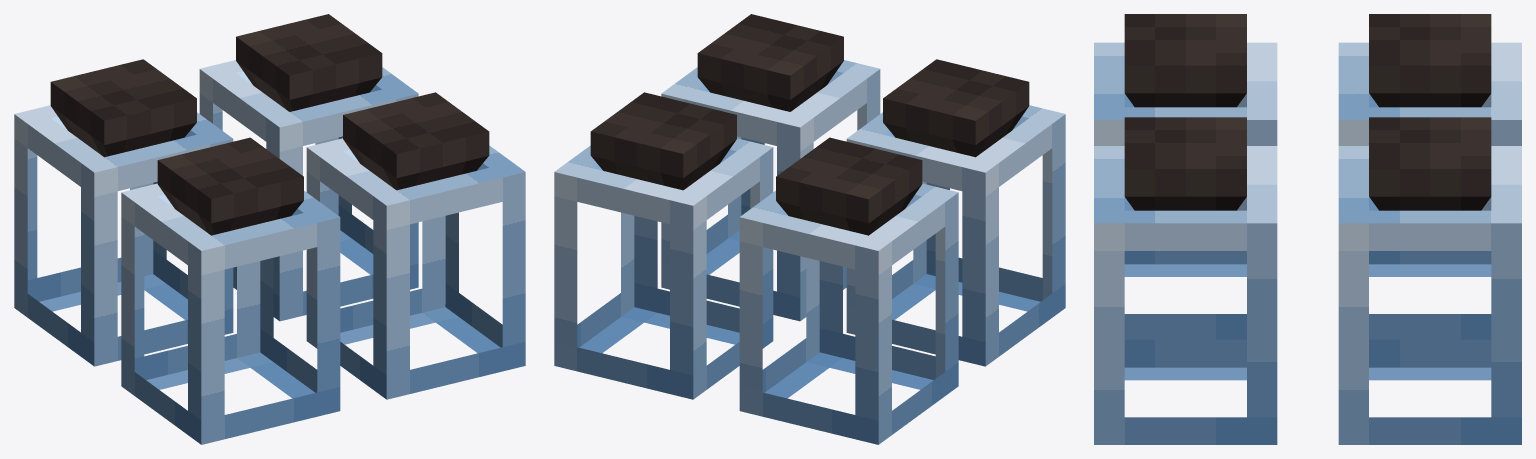
Rendered from materia_jar_quad_inv.obj.
3 renders of one model, left to right at view 1: azimuth 30°, elevation 25°; view 2: azimuth 150°, elevation 25°; view 3: azimuth 270°, elevation 25°, orthographic. The views are drawn at different scales.
Parts seen in each view (by area): view 1: MATERIA_JAR_QUAD_INV_Cube.107; view 2: MATERIA_JAR_QUAD_INV_Cube.107; view 3: MATERIA_JAR_QUAD_INV_Cube.107.
Boxes of the visible parts, left/top/right/bottom form: MATERIA_JAR_QUAD_INV_Cube.107: left=14, top=14, right=525, bottom=444; MATERIA_JAR_QUAD_INV_Cube.107: left=554, top=14, right=1065, bottom=444; MATERIA_JAR_QUAD_INV_Cube.107: left=1094, top=14, right=1521, bottom=444.
Size of the model in its own units: 0.875 by 0.5938 by 0.875.
